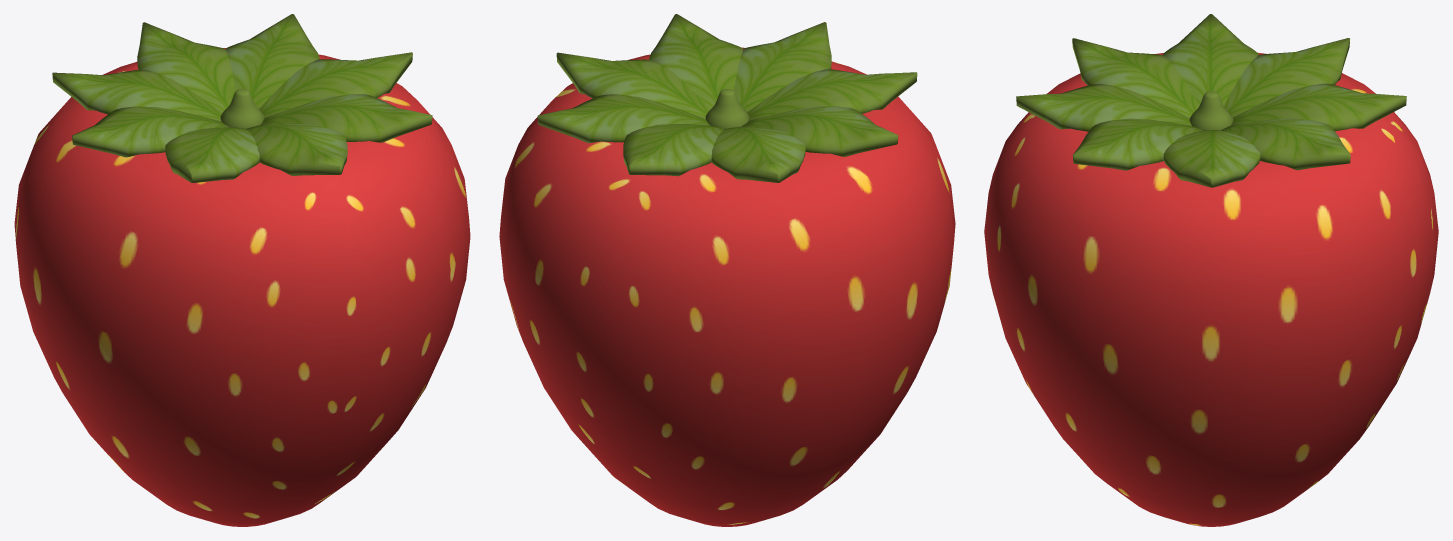
File: Strawberry.fbx
3 renders of one model, left to right at view 1: azimuth 30°, elevation 25°; view 2: azimuth 150°, elevation 25°; view 3: azimuth 270°, elevation 25°, orthographic.
Parts seen in each view (by area): view 1: Strawberry; view 2: Strawberry; view 3: Strawberry.
Part boxes in pixels (left/top/right/bottom): Strawberry: left=14, top=14, right=470, bottom=526; Strawberry: left=499, top=14, right=955, bottom=526; Strawberry: left=984, top=14, right=1438, bottom=526.
Size of the model in its own units: 6.13 by 6.29 by 6.13.
